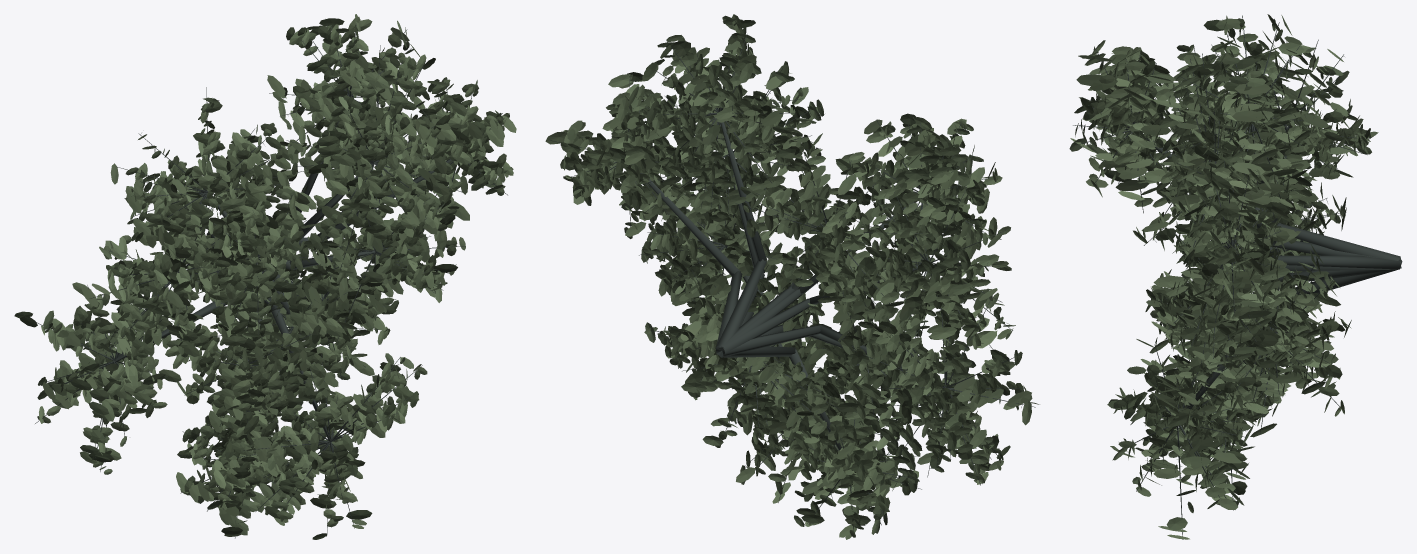
File: tree_m15.obj
3 renders of one model, left to right at view 1: azimuth 30°, elevation 25°; view 2: azimuth 150°, elevation 25°; view 3: azimuth 270°, elevation 25°, orthographic. The views are drawn at different scales.
Bounding box in the file's own units: 1.89 × 1.84 × 1.04.
Materials: 1 (1 with a texture image).
